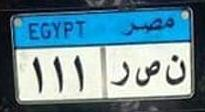1: (72, 55, 87, 94), (32, 55, 45, 95), (52, 55, 65, 94)
noon: (164, 53, 187, 89)
raa: (109, 57, 131, 88)
saad: (135, 58, 161, 89)
